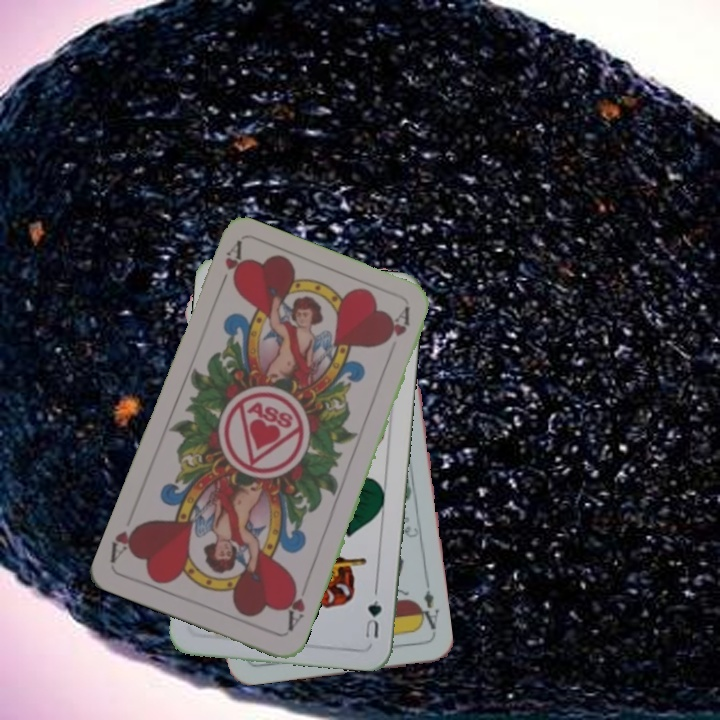EA: (413, 578, 442, 637)
GU: (361, 596, 384, 641)
HA: (213, 239, 247, 296), (281, 577, 308, 634)
